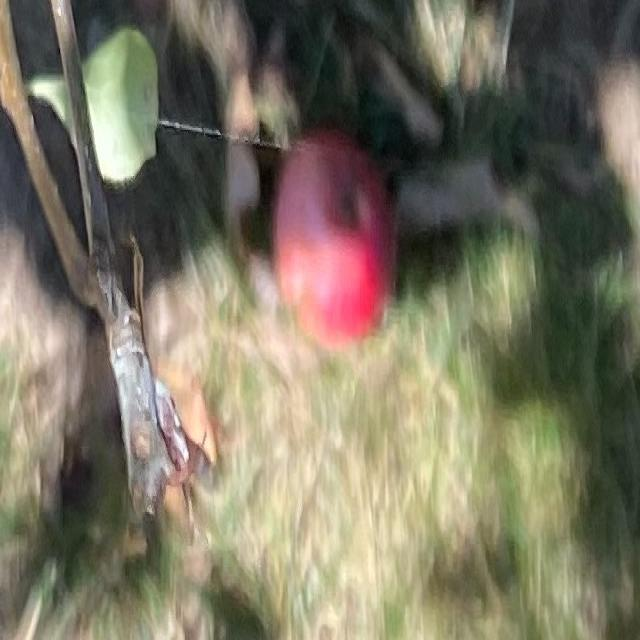Apples: (274, 132, 396, 343)
